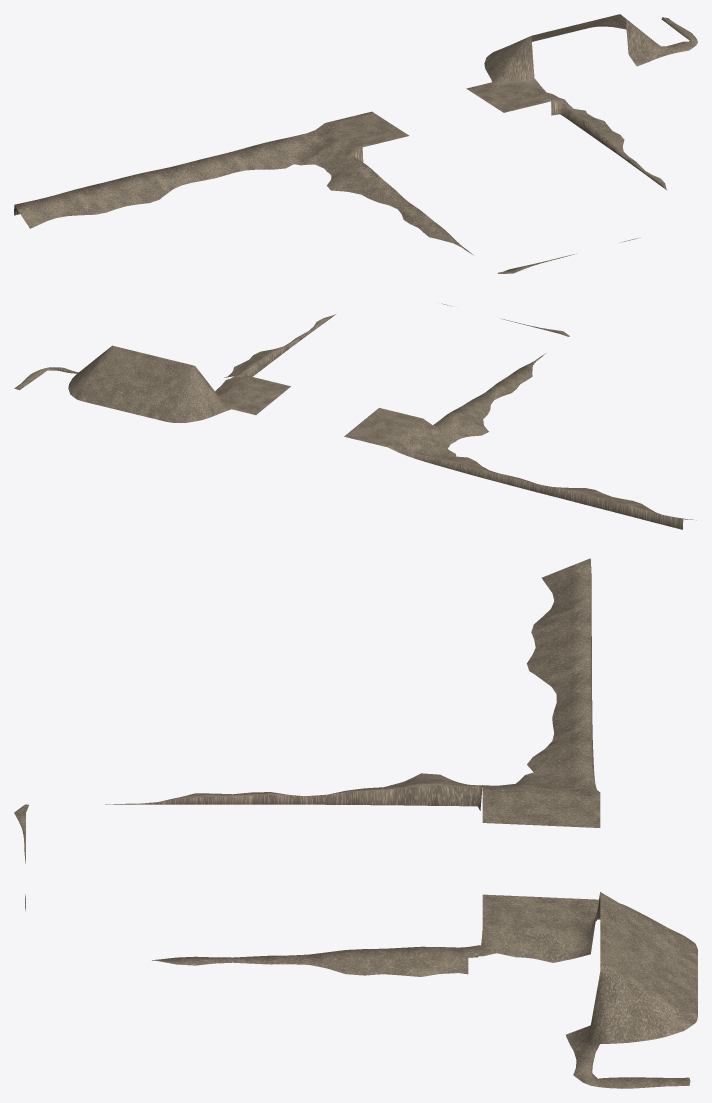
File: SM_SubstationField_ApronGrade_LOD1.fbx
The picture shows the model from 3 angles, top to bottom: view 1: azimuth 30°, elevation 25°; view 2: azimuth 150°, elevation 25°; view 3: azimuth 270°, elevation 25°; orthographic projection. The views are drawn at different scales.
Visible parts, largest first — view 1: SM_SubstationField_ApronGrade_LOD1; view 2: SM_SubstationField_ApronGrade_LOD1; view 3: SM_SubstationField_ApronGrade_LOD1.
Part boxes in pixels (x1=…): SM_SubstationField_ApronGrade_LOD1: x1=14, y1=14, x2=697, y2=273; SM_SubstationField_ApronGrade_LOD1: x1=14, y1=303, x2=696, y2=529; SM_SubstationField_ApronGrade_LOD1: x1=14, y1=558, x2=697, y2=1088.
Bounding box in the file's own units: 13.17 × 7.27 × 0.9589.
